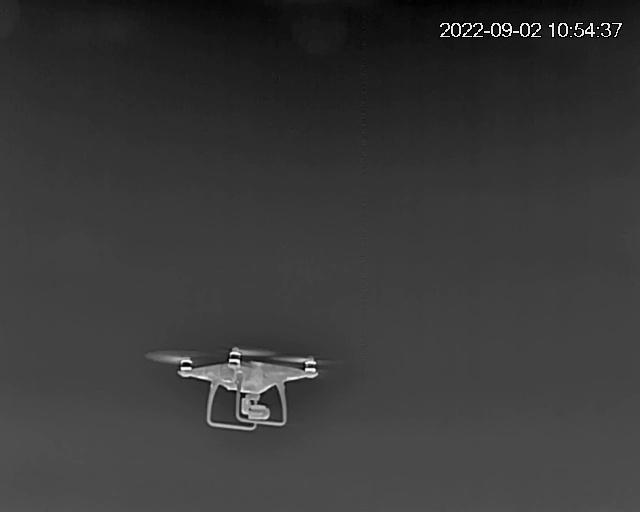DJI-Phantom: (141, 350, 339, 430)
